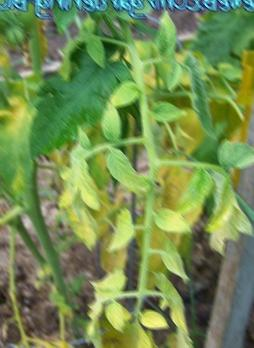Tomato leaf yellow virus: (0, 71, 45, 223), (95, 148, 147, 197), (169, 161, 210, 214), (95, 86, 125, 146), (152, 203, 192, 238)
